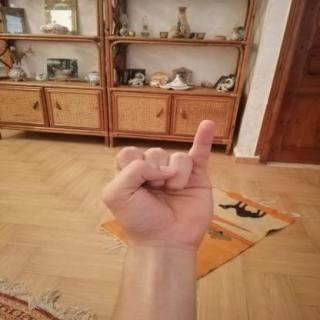MEEM: (85, 108, 233, 255)
